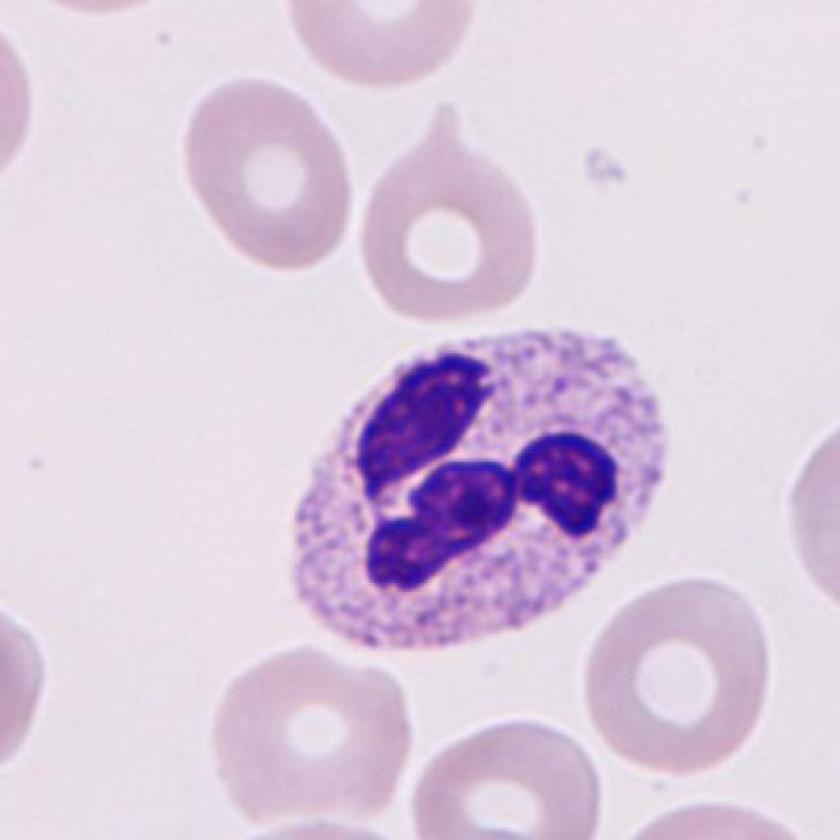neutrophil: (283, 325, 689, 642)
